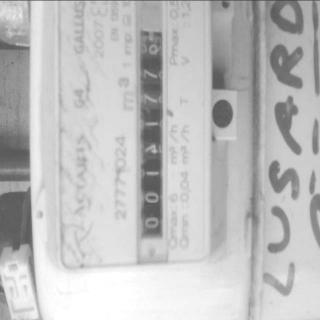1: (145, 190, 160, 204), (145, 216, 160, 229)
2: (145, 166, 160, 181), (146, 119, 159, 130)
5: (144, 142, 158, 155)
8: (144, 92, 160, 107), (143, 68, 159, 82)
:: (146, 44, 162, 55)
